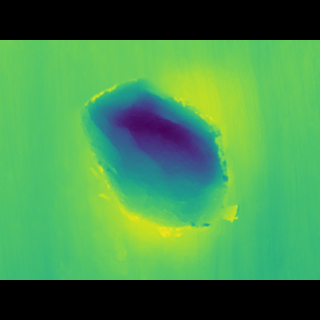Loch: (74, 89, 239, 239)
